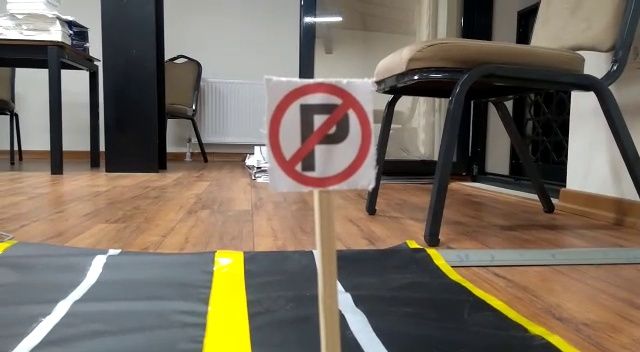park_yapilmaz: (264, 77, 373, 189)
